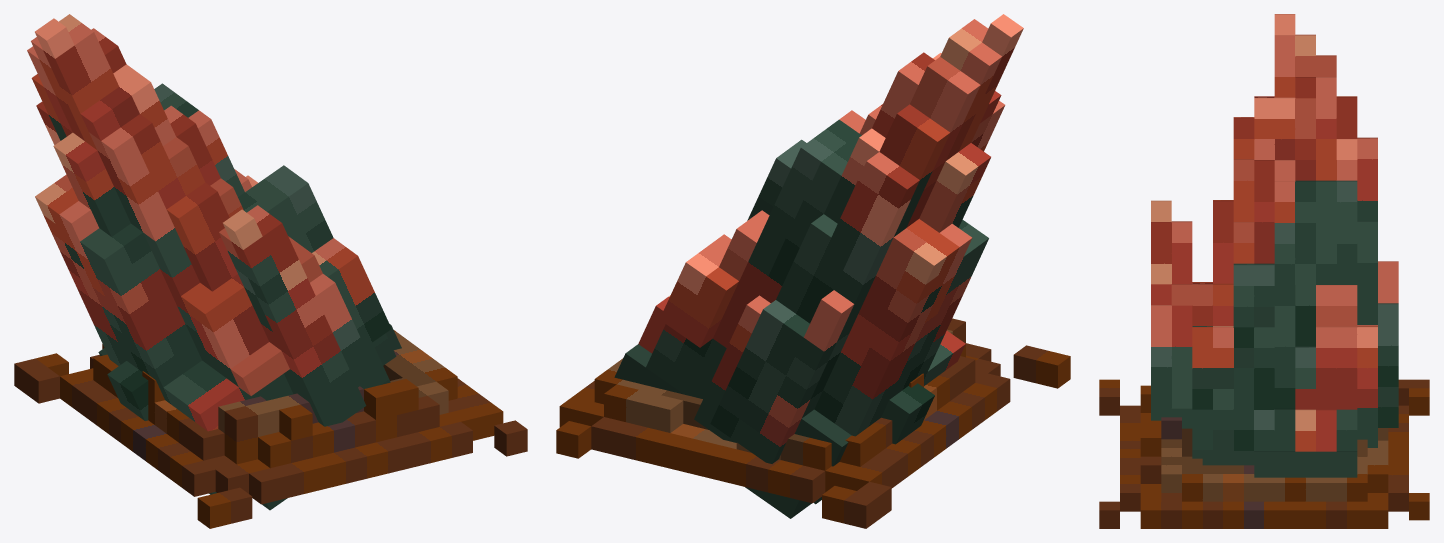
The model's file is copperore_full_lv2.gltf.
3 renders of one model, left to right at view 1: azimuth 30°, elevation 25°; view 2: azimuth 150°, elevation 25°; view 3: azimuth 270°, elevation 25°, orthographic. The views are drawn at different scales.
Visible parts, largest first — view 1: ore-Local, resources_ore-Local; view 2: ore-Local, resources_ore-Local; view 3: ore-Local, resources_ore-Local.
Boxes of the visible parts, <box> form: ore-Local: <box>27,14,401,510</box>; resources_ore-Local: <box>14,330,527,528</box>; ore-Local: <box>614,14,1023,518</box>; resources_ore-Local: <box>556,318,1070,528</box>; ore-Local: <box>1151,14,1398,477</box>; resources_ore-Local: <box>1099,379,1429,528</box>.
Size of the model in its own units: 17.8 by 22.3 by 16.
Materials: 2 (2 with a texture image).
